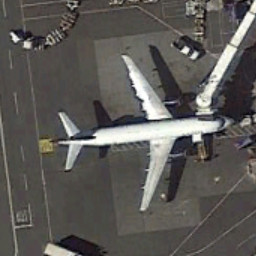Airplane: (47, 49, 240, 222)
